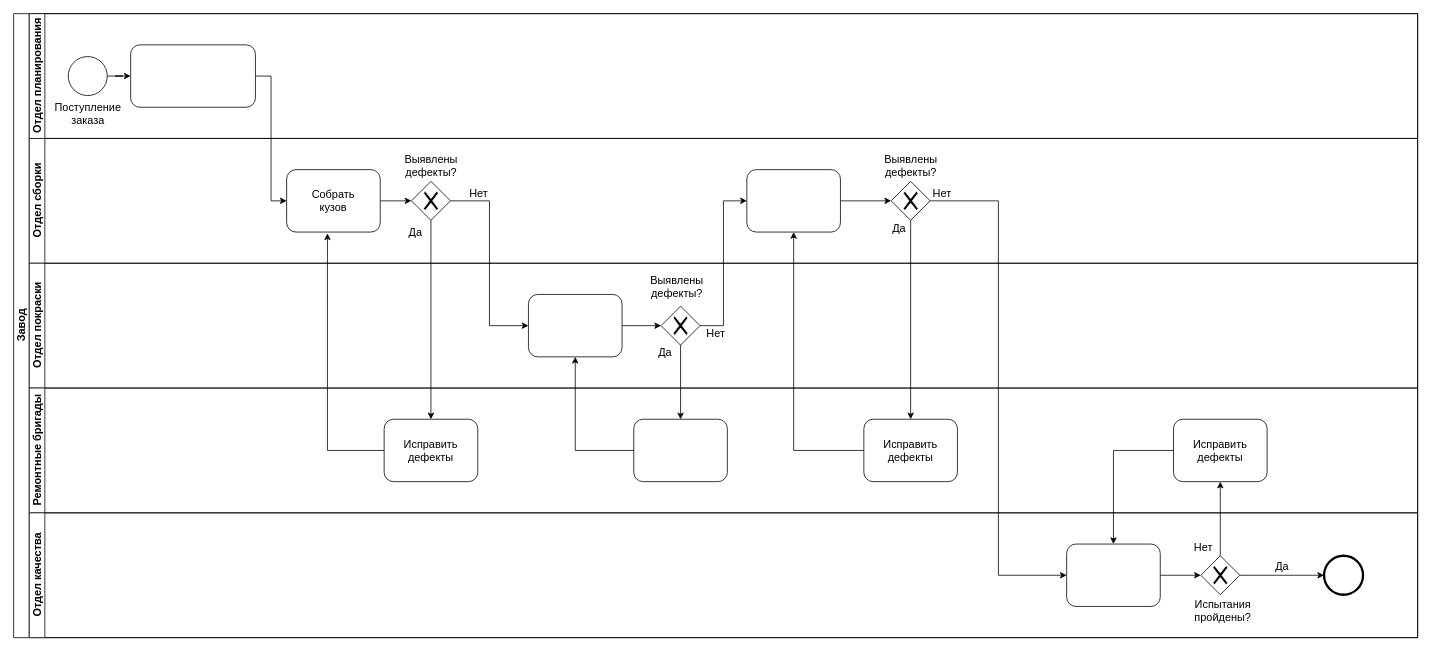
The diagram is 1431 pixels wide and 651 high, and some of its shapes have lost their labels. The centre of each missing label's shape, as x and y in pixels:
"Отгрузка" goes at point 1343,575.
"Подготовить к перекраске" goes at point 680,450.
"Покрасить кузов" goes at point 575,325.
"Провести испытания" goes at point 1113,574.
"Собрать комплектующие и автомобиль" goes at point 793,200.
"Составить производственный план" goes at point 192,75.
